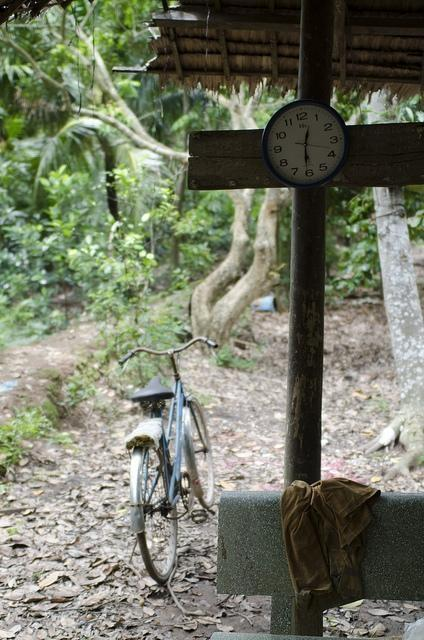bicycle: (116, 335, 217, 584)
